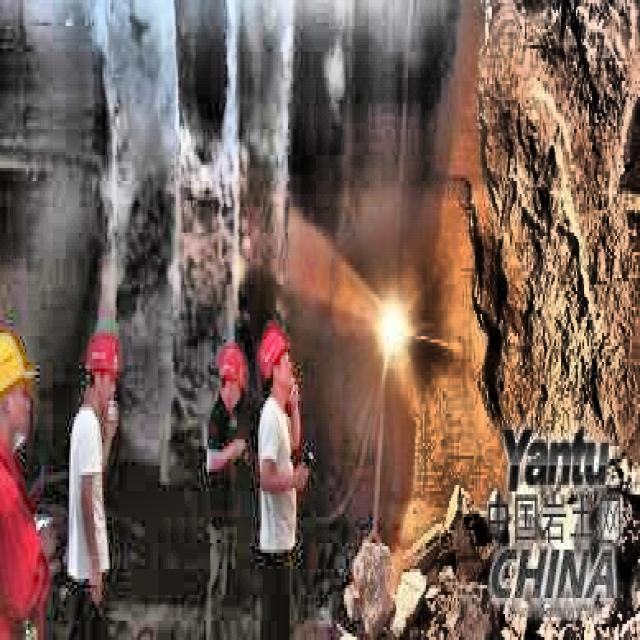helmet: (2, 330, 33, 446), (87, 326, 122, 417), (258, 323, 292, 404), (219, 343, 247, 404)
